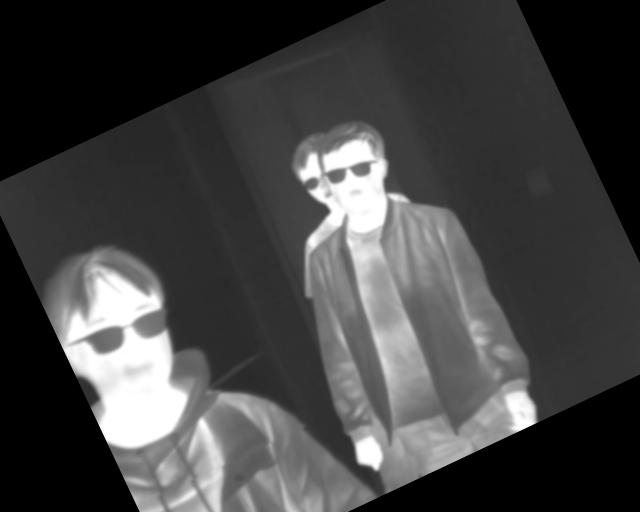face: (30, 224, 201, 419), (305, 108, 410, 226)
